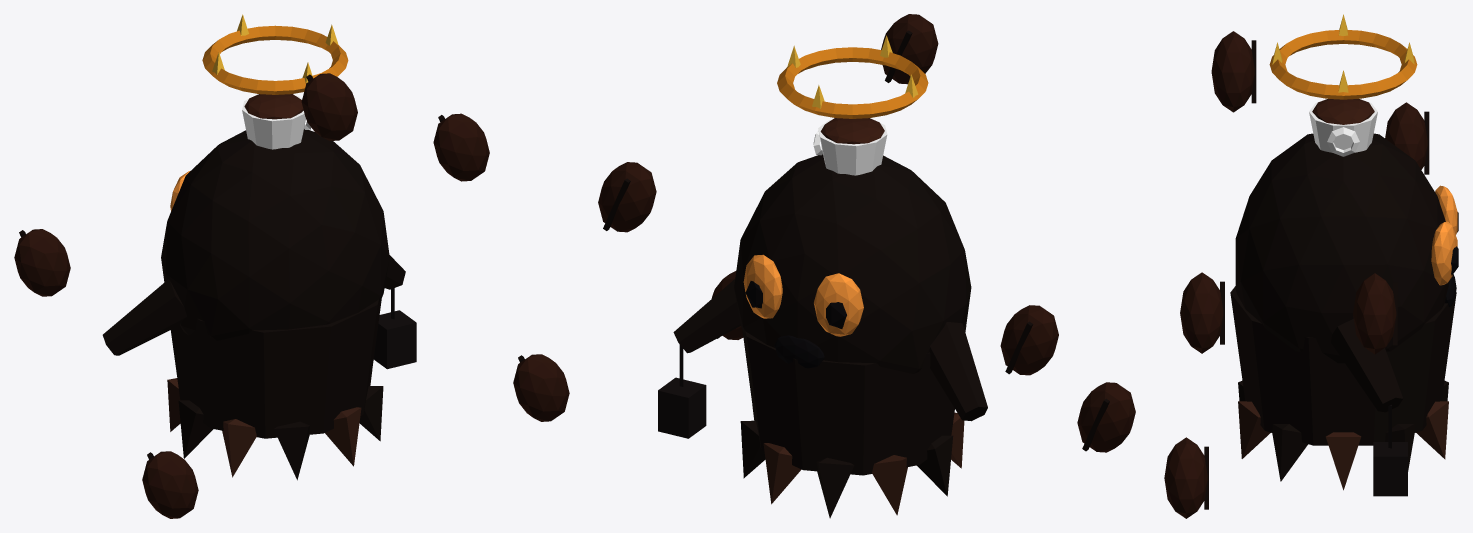
Rendered from choco_phantom.obj.
The picture shows the model from 3 angles, left to right: view 1: azimuth 30°, elevation 25°; view 2: azimuth 150°, elevation 25°; view 3: azimuth 270°, elevation 25°; orthographic projection. The views are drawn at different scales.
Visible parts, largest first — view 1: Body_1_m1, Halo_9_m21, ArmL_2_m5, Body_1_m2, Float1_4_m11, Float3_6_m15, Float4_7_m17, Float5_8_m19, Float2_5_m13, ArmR_3_m7, Body_1_m9, Body_1_m10; view 2: Body_1_m1, Halo_9_m21, Body_1_m3, ArmL_2_m5, Body_1_m2, Float4_7_m17, Float1_4_m11, Float2_5_m13, ArmR_3_m7, ArmR_3_m6, Float3_6_m15, Body_1_m9 (+3 smaller); view 3: Body_1_m1, Halo_9_m21, Body_1_m2, ArmR_3_m6, Float2_5_m13, Float3_6_m15, Float5_8_m19, Float4_7_m17, ArmR_3_m7, Body_1_m9, Body_1_m3, Float1_4_m11 (+3 smaller).
Part boxes in pixels (<box>): Body_1_m1: <box>161,129,389,480</box>; Halo_9_m21: <box>202,25,348,94</box>; ArmL_2_m5: <box>102,279,186,355</box>; Body_1_m2: <box>167,371,372,477</box>; Float1_4_m11: <box>14,229,70,296</box>; Float3_6_m15: <box>301,73,357,140</box>; Float4_7_m17: <box>142,451,198,518</box>; Float5_8_m19: <box>513,354,569,421</box>; Float2_5_m13: <box>433,113,489,181</box>; ArmR_3_m7: <box>373,288,416,369</box>; Body_1_m9: <box>242,95,311,149</box>; Body_1_m10: <box>244,94,303,119</box>; Body_1_m1: <box>734,154,971,518</box>; Halo_9_m21: <box>777,47,928,118</box>; Body_1_m3: <box>743,254,863,336</box>; ArmL_2_m5: <box>929,322,987,421</box>; Body_1_m2: <box>752,408,964,515</box>; Float4_7_m17: <box>1077,382,1135,452</box>; Float1_4_m11: <box>1000,305,1058,375</box>; Float2_5_m13: <box>598,162,656,232</box>; ArmR_3_m7: <box>658,345,706,438</box>; ArmR_3_m6: <box>673,279,740,353</box>; Float3_6_m15: <box>881,14,938,84</box>; Body_1_m9: <box>813,119,887,175</box>; Body_1_m1: <box>1230,133,1456,481</box>; Halo_9_m21: <box>1269,30,1417,99</box>; Body_1_m2: <box>1238,401,1448,490</box>; ArmR_3_m6: <box>1331,319,1403,412</box>; Float2_5_m13: <box>1353,273,1396,354</box>; Float3_6_m15: <box>1211,31,1254,112</box>; Float5_8_m19: <box>1164,437,1207,518</box>; Float4_7_m17: <box>1180,272,1223,353</box>; ArmR_3_m7: <box>1373,405,1407,496</box>; Body_1_m9: <box>1309,102,1377,156</box>; Body_1_m3: <box>1431,185,1457,285</box>; Float1_4_m11: <box>1385,102,1427,169</box>.
Size of the model in its own units: 3.37 by 2.87 by 1.87.
